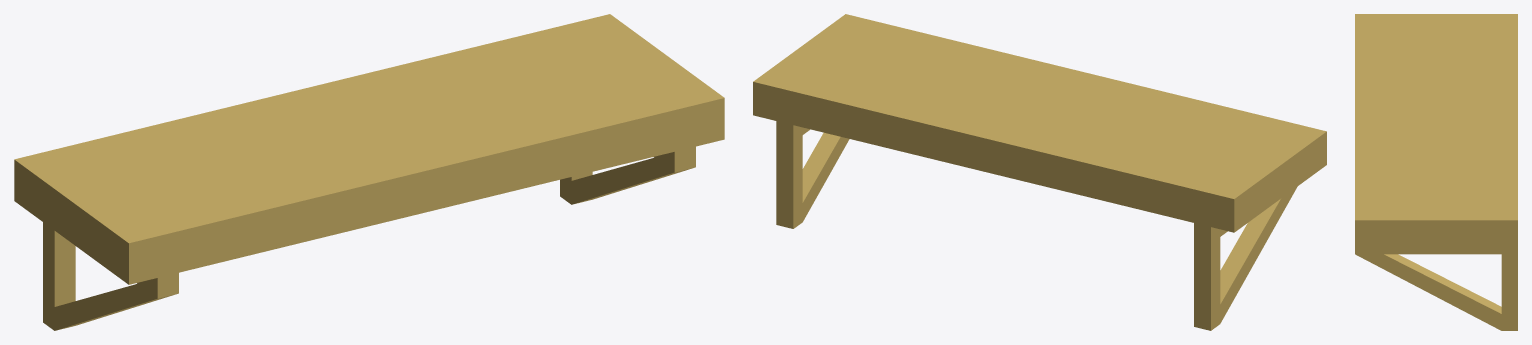
The model's file is SM_Shelf.fbx.
3 renders of one model, left to right at view 1: azimuth 30°, elevation 25°; view 2: azimuth 150°, elevation 25°; view 3: azimuth 270°, elevation 25°, orthographic. The views are drawn at different scales.
Parts seen in each view (by area): view 1: SM_Shelf; view 2: SM_Shelf; view 3: SM_Shelf.
Boxes of the visible parts, x1,y1,x2,y2 form: SM_Shelf: (14, 14, 724, 330); SM_Shelf: (753, 14, 1326, 330); SM_Shelf: (1355, 14, 1517, 330).
Bounding box in the file's own units: 75 × 20.48 × 25.
